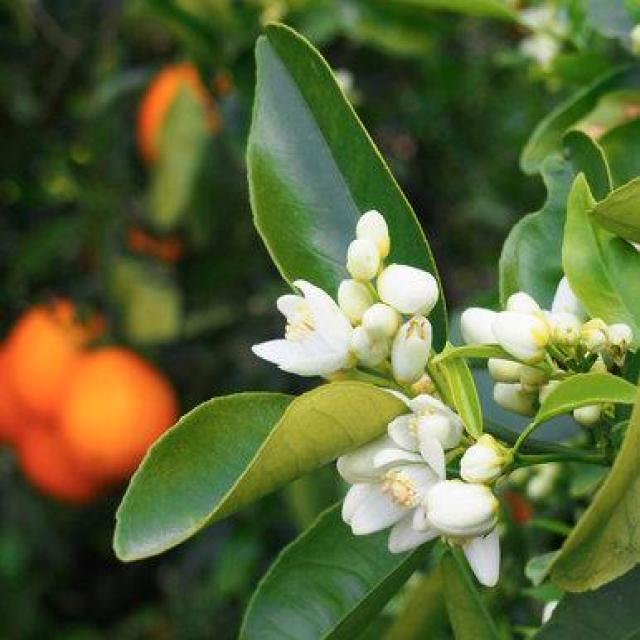Bunga: (332, 441, 439, 546), (254, 277, 354, 379), (374, 386, 472, 466), (428, 484, 500, 536), (492, 309, 549, 368), (462, 526, 512, 592), (378, 264, 440, 316), (393, 316, 433, 386), (454, 306, 502, 354), (488, 381, 540, 422), (454, 438, 506, 478), (354, 208, 390, 262), (343, 238, 380, 281), (489, 353, 534, 388), (338, 278, 372, 318), (353, 327, 388, 363), (362, 304, 399, 336)
